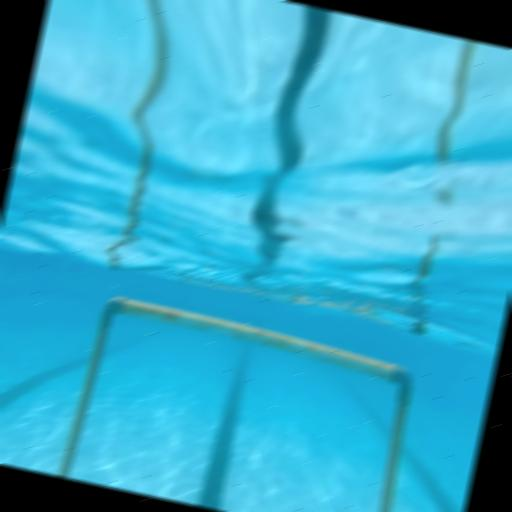gate: (55, 291, 426, 512)
